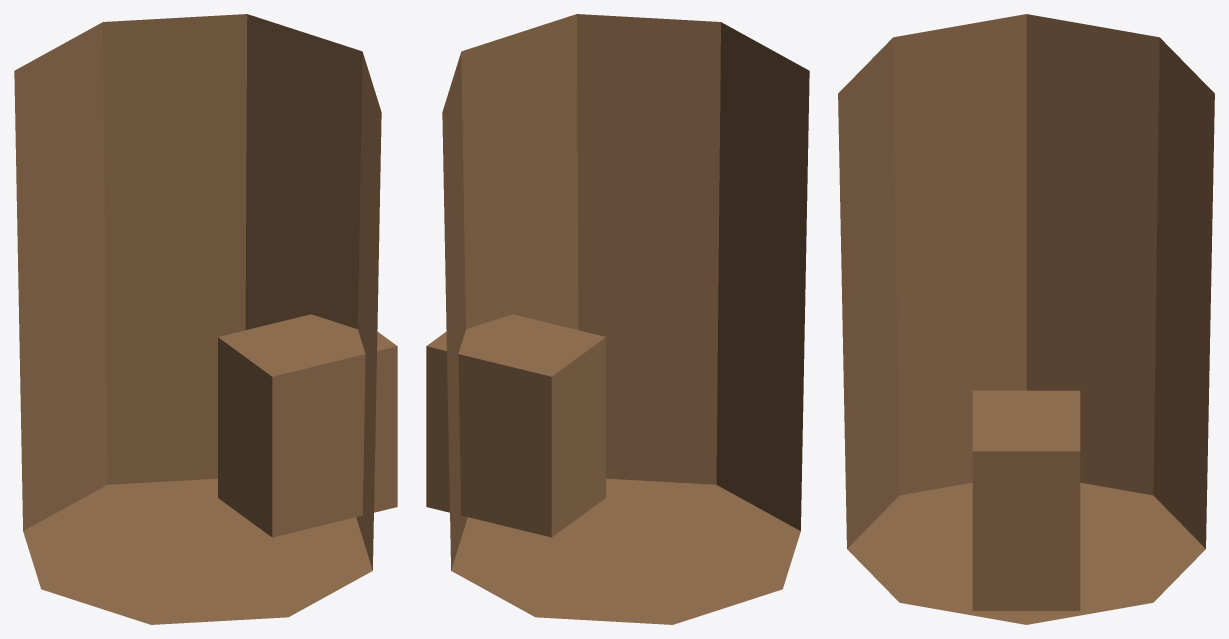
Rendered from resource_wildwood_stump.glb.
3 renders of one model, left to right at view 1: azimuth 30°, elevation 25°; view 2: azimuth 150°, elevation 25°; view 3: azimuth 270°, elevation 25°, orthographic.
Parts seen in each view (by area): view 1: resource_wildwood_stump; view 2: resource_wildwood_stump; view 3: resource_wildwood_stump.
Boxes of the visible parts, left/top/right/bottom form: resource_wildwood_stump: left=14, top=14, right=397, bottom=624; resource_wildwood_stump: left=426, top=14, right=809, bottom=624; resource_wildwood_stump: left=838, top=14, right=1214, bottom=624.
Size of the model in its own units: 0.7679 by 1 by 0.75.
